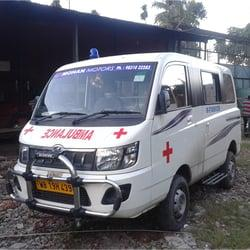Emergency-Vehicles: (12, 44, 250, 232)
